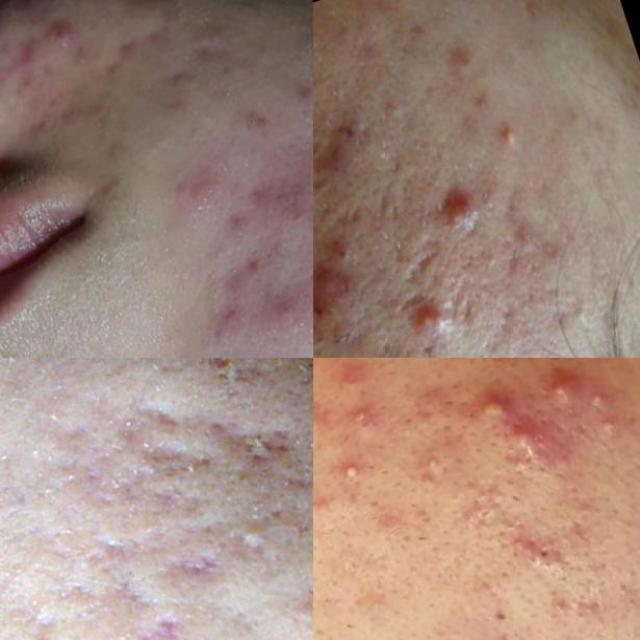acne_scars: (138, 424, 212, 484), (222, 408, 292, 464), (157, 531, 223, 587), (114, 599, 181, 640), (75, 524, 128, 570), (273, 449, 313, 503)
comedone: (495, 518, 564, 584), (442, 481, 509, 529), (226, 504, 276, 553), (339, 392, 386, 441), (276, 586, 313, 637), (214, 627, 286, 640)
cystic: (493, 412, 557, 472)
papule: (23, 0, 109, 67), (424, 174, 495, 253), (247, 268, 313, 334), (438, 35, 488, 84), (313, 256, 358, 305), (313, 297, 347, 345)
pustule: (454, 370, 510, 434), (400, 292, 454, 347), (484, 112, 534, 159), (329, 450, 372, 495), (406, 441, 445, 483), (544, 362, 580, 407), (580, 380, 616, 420), (591, 407, 627, 443)
